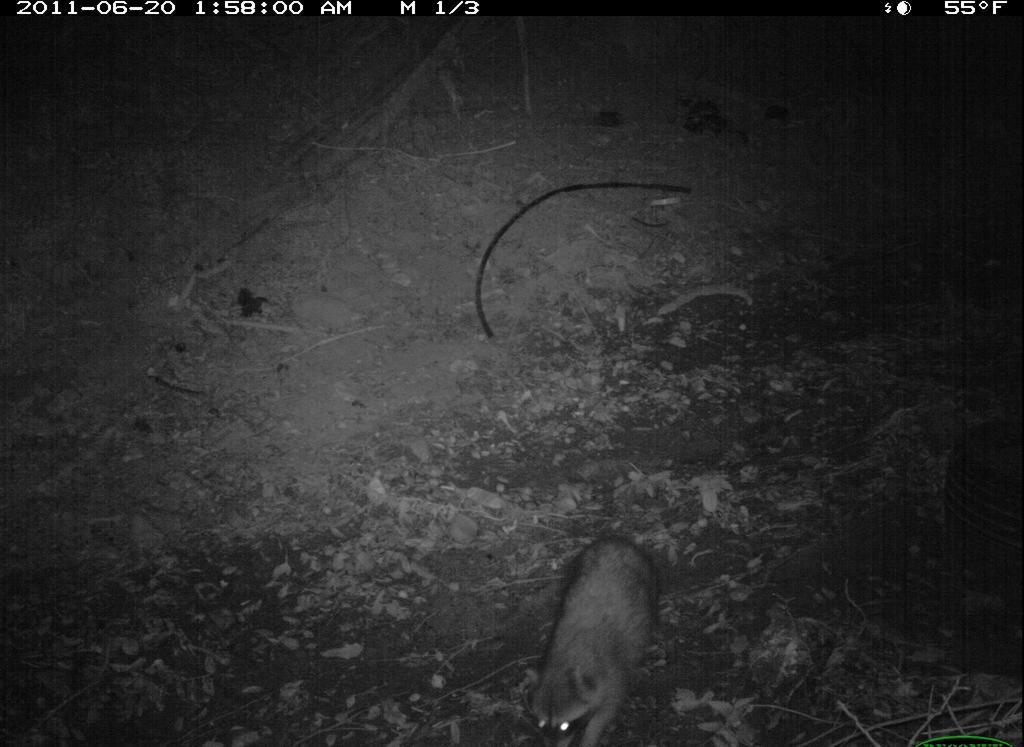raccoon: (518, 511, 667, 747)
